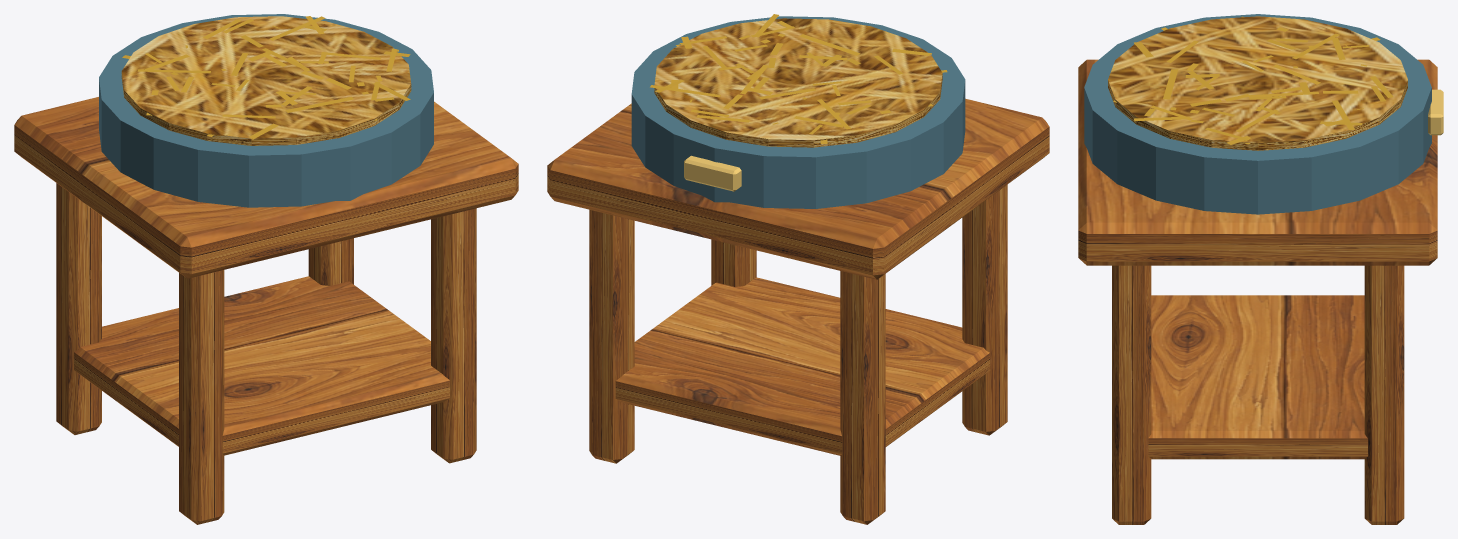
Rendered from CoopCozy_IncubatorBody.fbx.
3 views of the same model, side by side, from view 1: azimuth 30°, elevation 25°; view 2: azimuth 150°, elevation 25°; view 3: azimuth 270°, elevation 25° (orthographic). The views are drawn at different scales.
Visible parts, largest first — view 1: CoopCozy_IncubatorBody; view 2: CoopCozy_IncubatorBody; view 3: CoopCozy_IncubatorBody.
Boxes of the visible parts, x1=… form: CoopCozy_IncubatorBody: x1=14, y1=14, x2=518, y2=524; CoopCozy_IncubatorBody: x1=547, y1=14, x2=1049, y2=524; CoopCozy_IncubatorBody: x1=1078, y1=14, x2=1443, y2=524.
Bounding box in the file's own units: 1.02 × 1.06 × 0.925.
